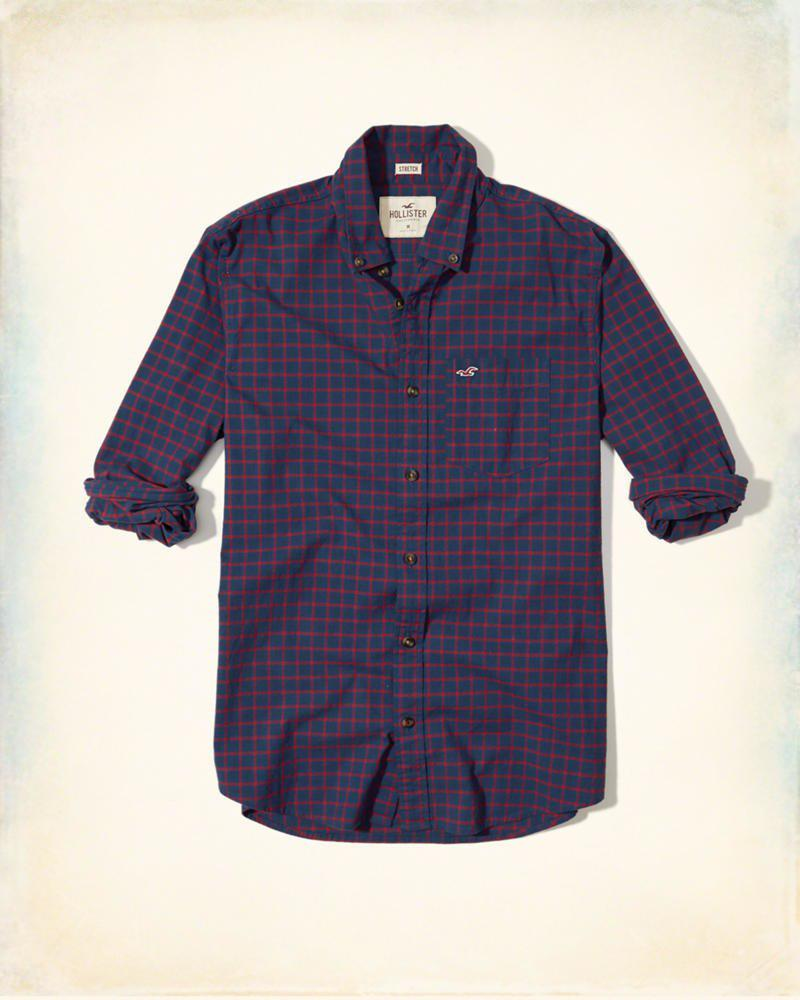teeshirt: (64, 121, 759, 871)
